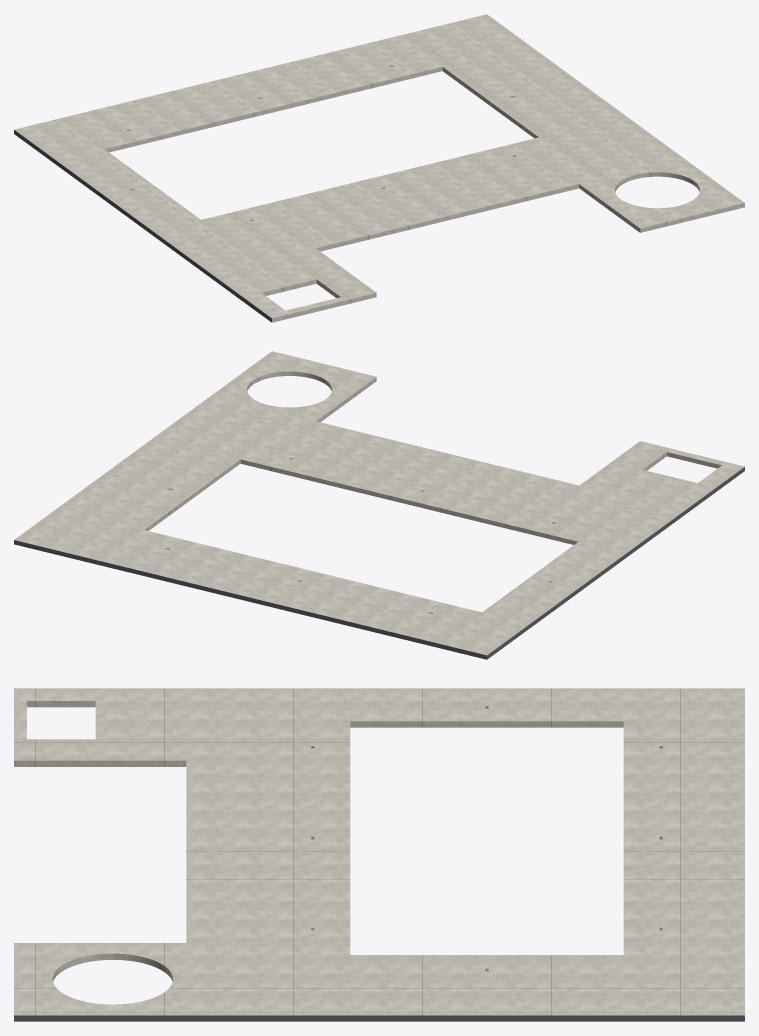
Rendered from deck.glb.
3 views of the same model, one above another, from view 1: azimuth 30°, elevation 25°; view 2: azimuth 150°, elevation 25°; view 3: azimuth 270°, elevation 25° (orthographic). The views are drawn at different scales.
Parts seen in each view (by area): view 1: deck_deck, deck_dark; view 2: deck_deck, deck_dark; view 3: deck_deck, deck_dark.
Boxes of the visible parts, bbox=[...] form: deck_deck: bbox=[14, 14, 744, 322]; deck_dark: bbox=[14, 66, 666, 322]; deck_deck: bbox=[14, 351, 744, 655]; deck_dark: bbox=[14, 378, 744, 659]; deck_deck: bbox=[14, 688, 744, 1015]; deck_dark: bbox=[14, 689, 744, 1021].
Bounding box in the file's own units: 36 × 0.324 × 34.
Materials: 3 (1 with a texture image).
